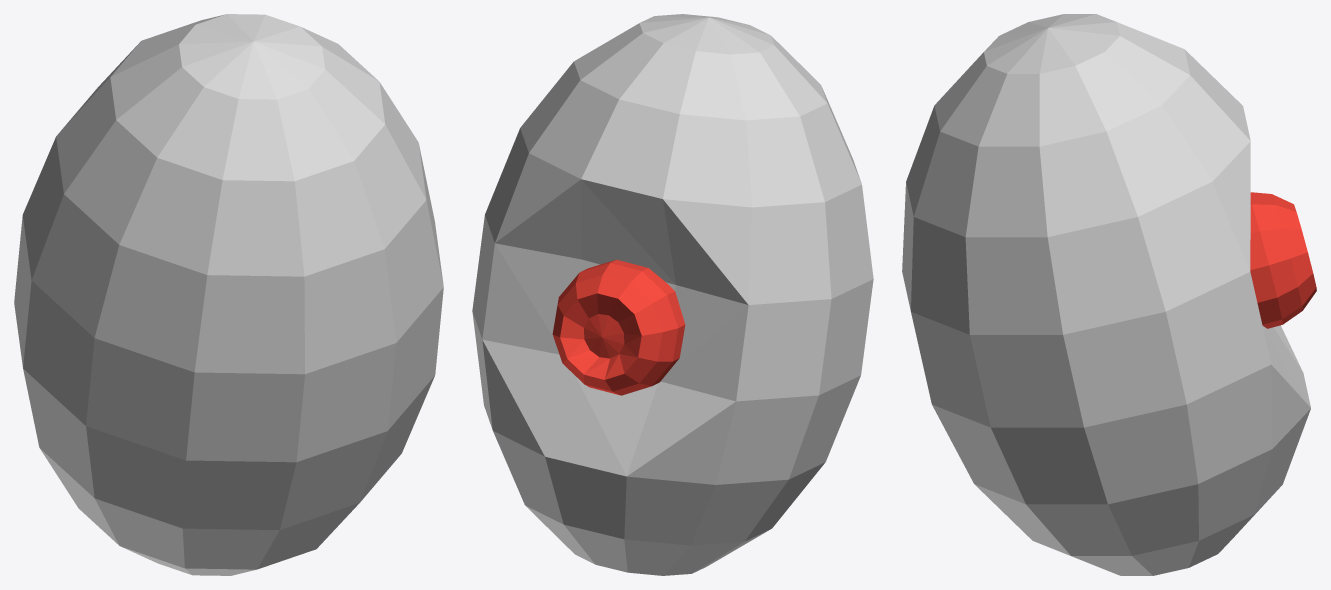
3 renders of one model, left to right at view 1: azimuth 30°, elevation 25°; view 2: azimuth 150°, elevation 25°; view 3: azimuth 270°, elevation 25°, orthographic. The views are drawn at different scales.
Visible parts, largest first — view 1: group393629219; view 2: group393629219, group1320233954; view 3: group393629219, group1320233954.
Part boxes in pixels (x1,y1,x2,y2): group393629219: (14,14,443,575); group393629219: (472,14,873,575); group1320233954: (552,259,685,395); group393629219: (902,14,1310,575); group1320233954: (1250,192,1316,328).
Bounding box in the file's own units: 0.4884 × 0.7047 × 0.5021.
